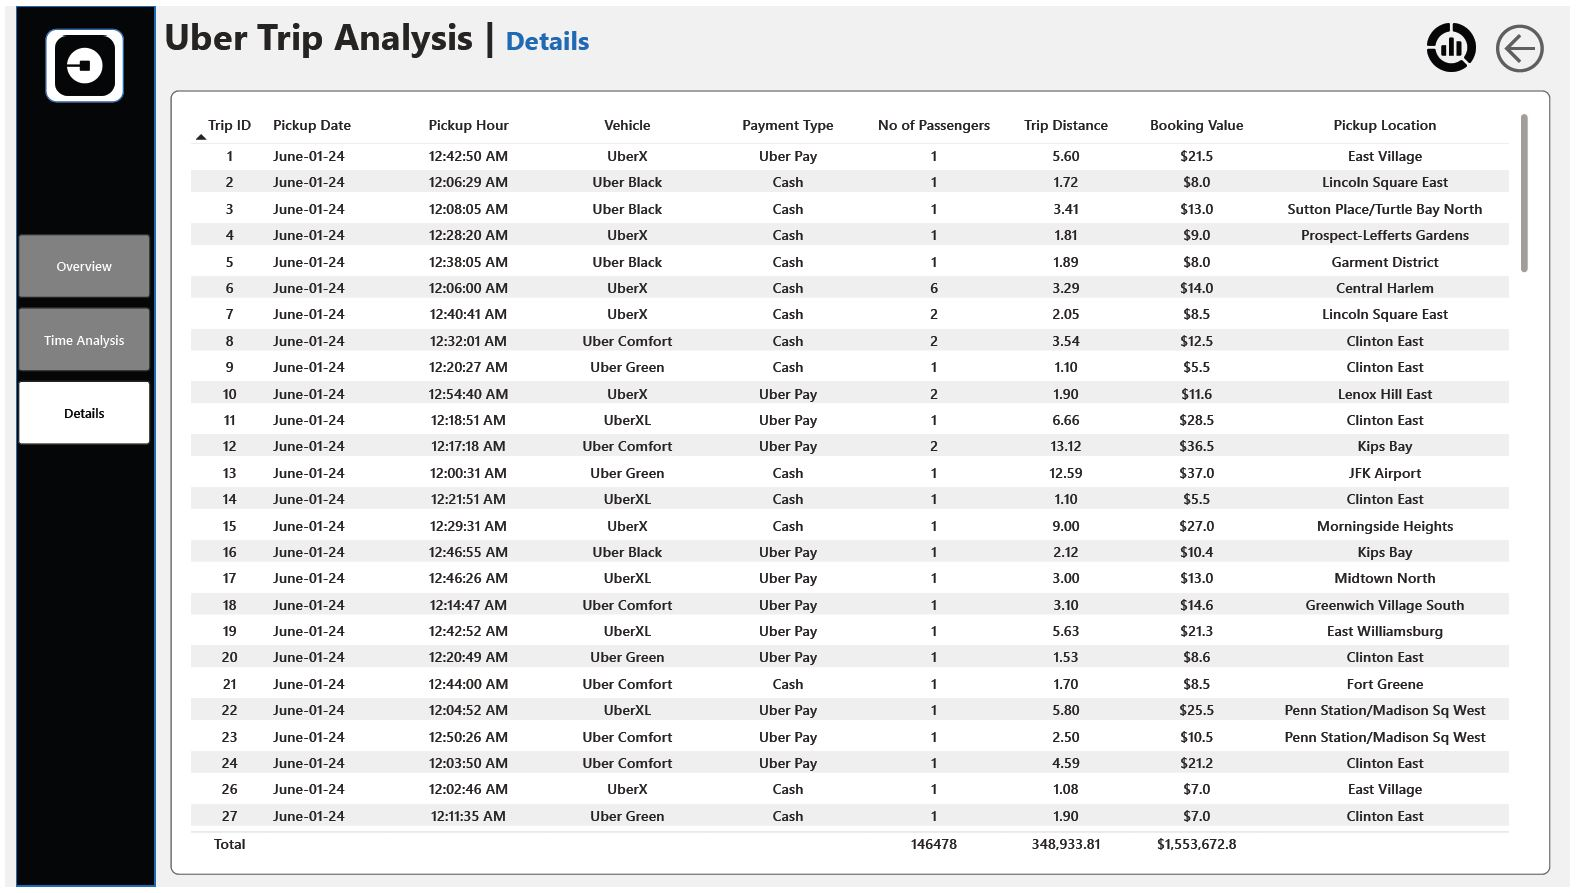

This screenshot's page, from the dashboard's own definition file:
{"tool":"powerbi","page":{"name":"Details","canvas":[1600,900],"ordinal":2},"visuals":[{"type":"shape","box":[10.7,0,142,899.6],"z":0},{"type":"textbox","box":[156.8,0,589.6,63.3],"z":1000},{"type":"shape","box":[168.9,86,1411.5,802.3],"z":2000},{"type":"tableEx","fields":{"Values":["Trip Details.Trip ID","Trip Details.Pickup Date","Trip Details.Pickup Hour (HH MM SS)","Trip Details.Vehicle","Trip Details.Payment_type","Sum(Trip Details.passenger_count)","Trip Details.Total Trip Distance Measure","Trip Details.Total Booking Value","Location Table.Location"]},"box":[183.8,104.4,1378.8,768.1],"z":3000},{"type":"actionButton","box":[1480.9,11.6,99.3,62.9],"z":4000},{"type":"image","box":[1449,12.2,60,60],"z":5000},{"type":"group","id":"g1","title":"Group 1","box":[41.4,23.2,80,75],"z":6000},{"type":"pageNavigator","box":[13.2,233.3,135,215.1],"z":6001},{"type":"shape","box":[41.4,23.2,80,75],"z":33000,"group":"g1"},{"type":"image","box":[43.1,24.9,77.8,71.1],"z":34000,"group":"g1"}]}

Visuals, with their boxes on the page's 1600x900 design canvas (x1, y1, x2, y2). These are canvas units, not pixel positions in the 1578x893 screenshot, which may show the page scaled, cropped or inside an application window:
shape: (11,0,153,900)
textbox: (157,0,746,63)
shape: (169,86,1580,888)
tableEx - Trip Details.Trip ID x Trip Details.Pickup Date: (184,104,1563,872)
actionButton: (1481,12,1580,74)
image: (1449,12,1509,72)
"Group 1" group: (41,23,121,98)
pageNavigator: (13,233,148,448)
shape: (41,23,121,98)
image: (43,25,121,96)
